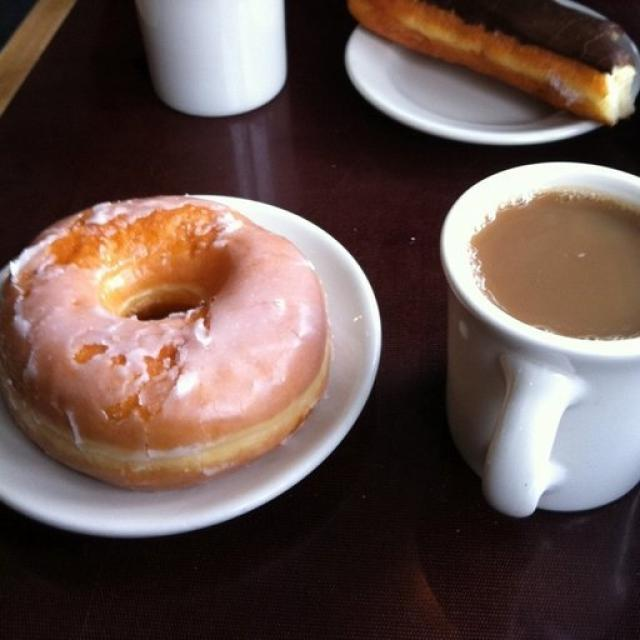Donuts: (12, 197, 357, 493)
